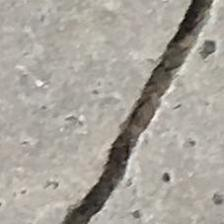Crack: (52, 0, 224, 224)
